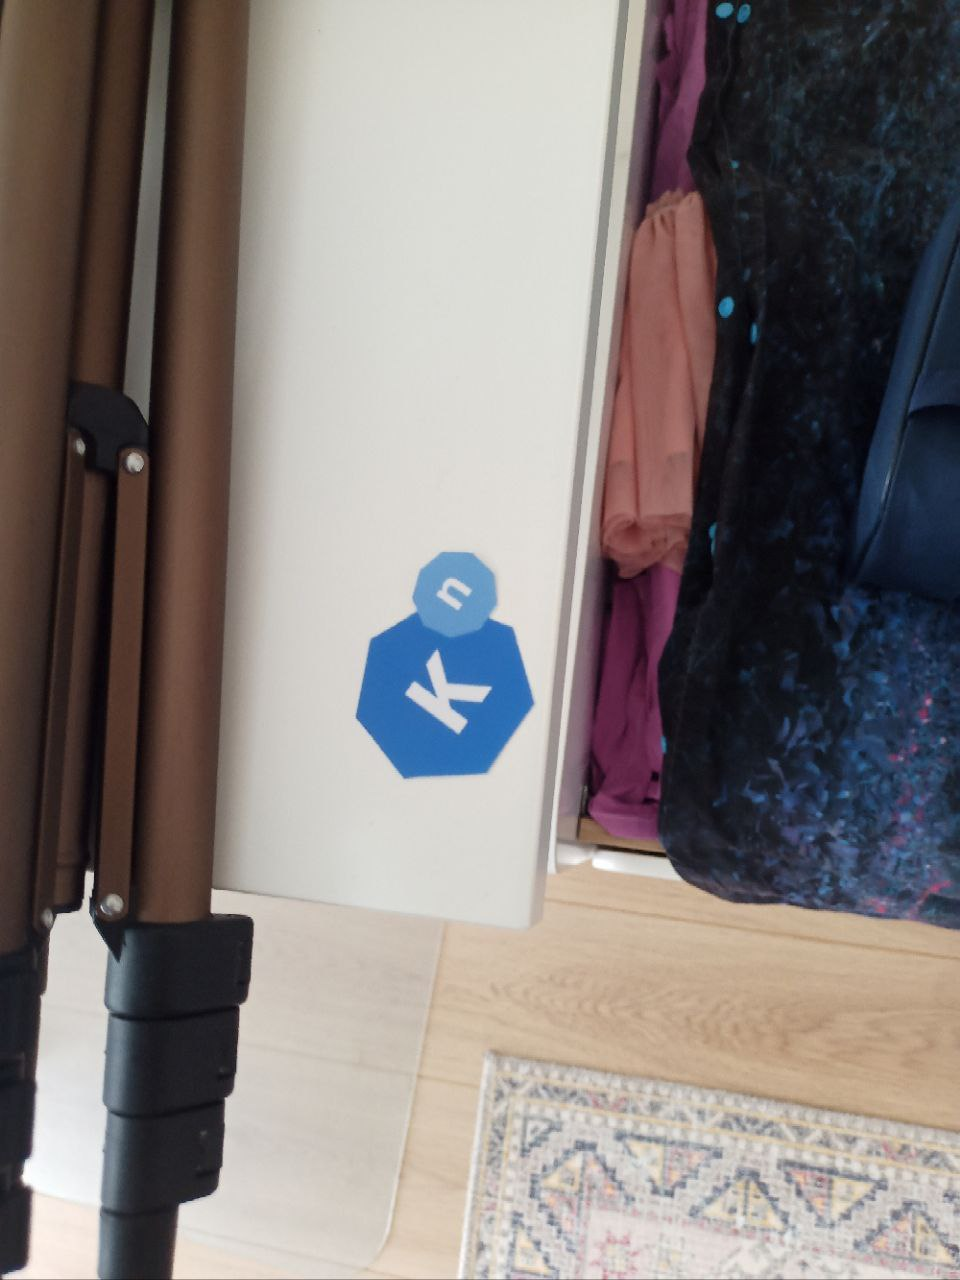knative: (355, 550, 533, 777)
